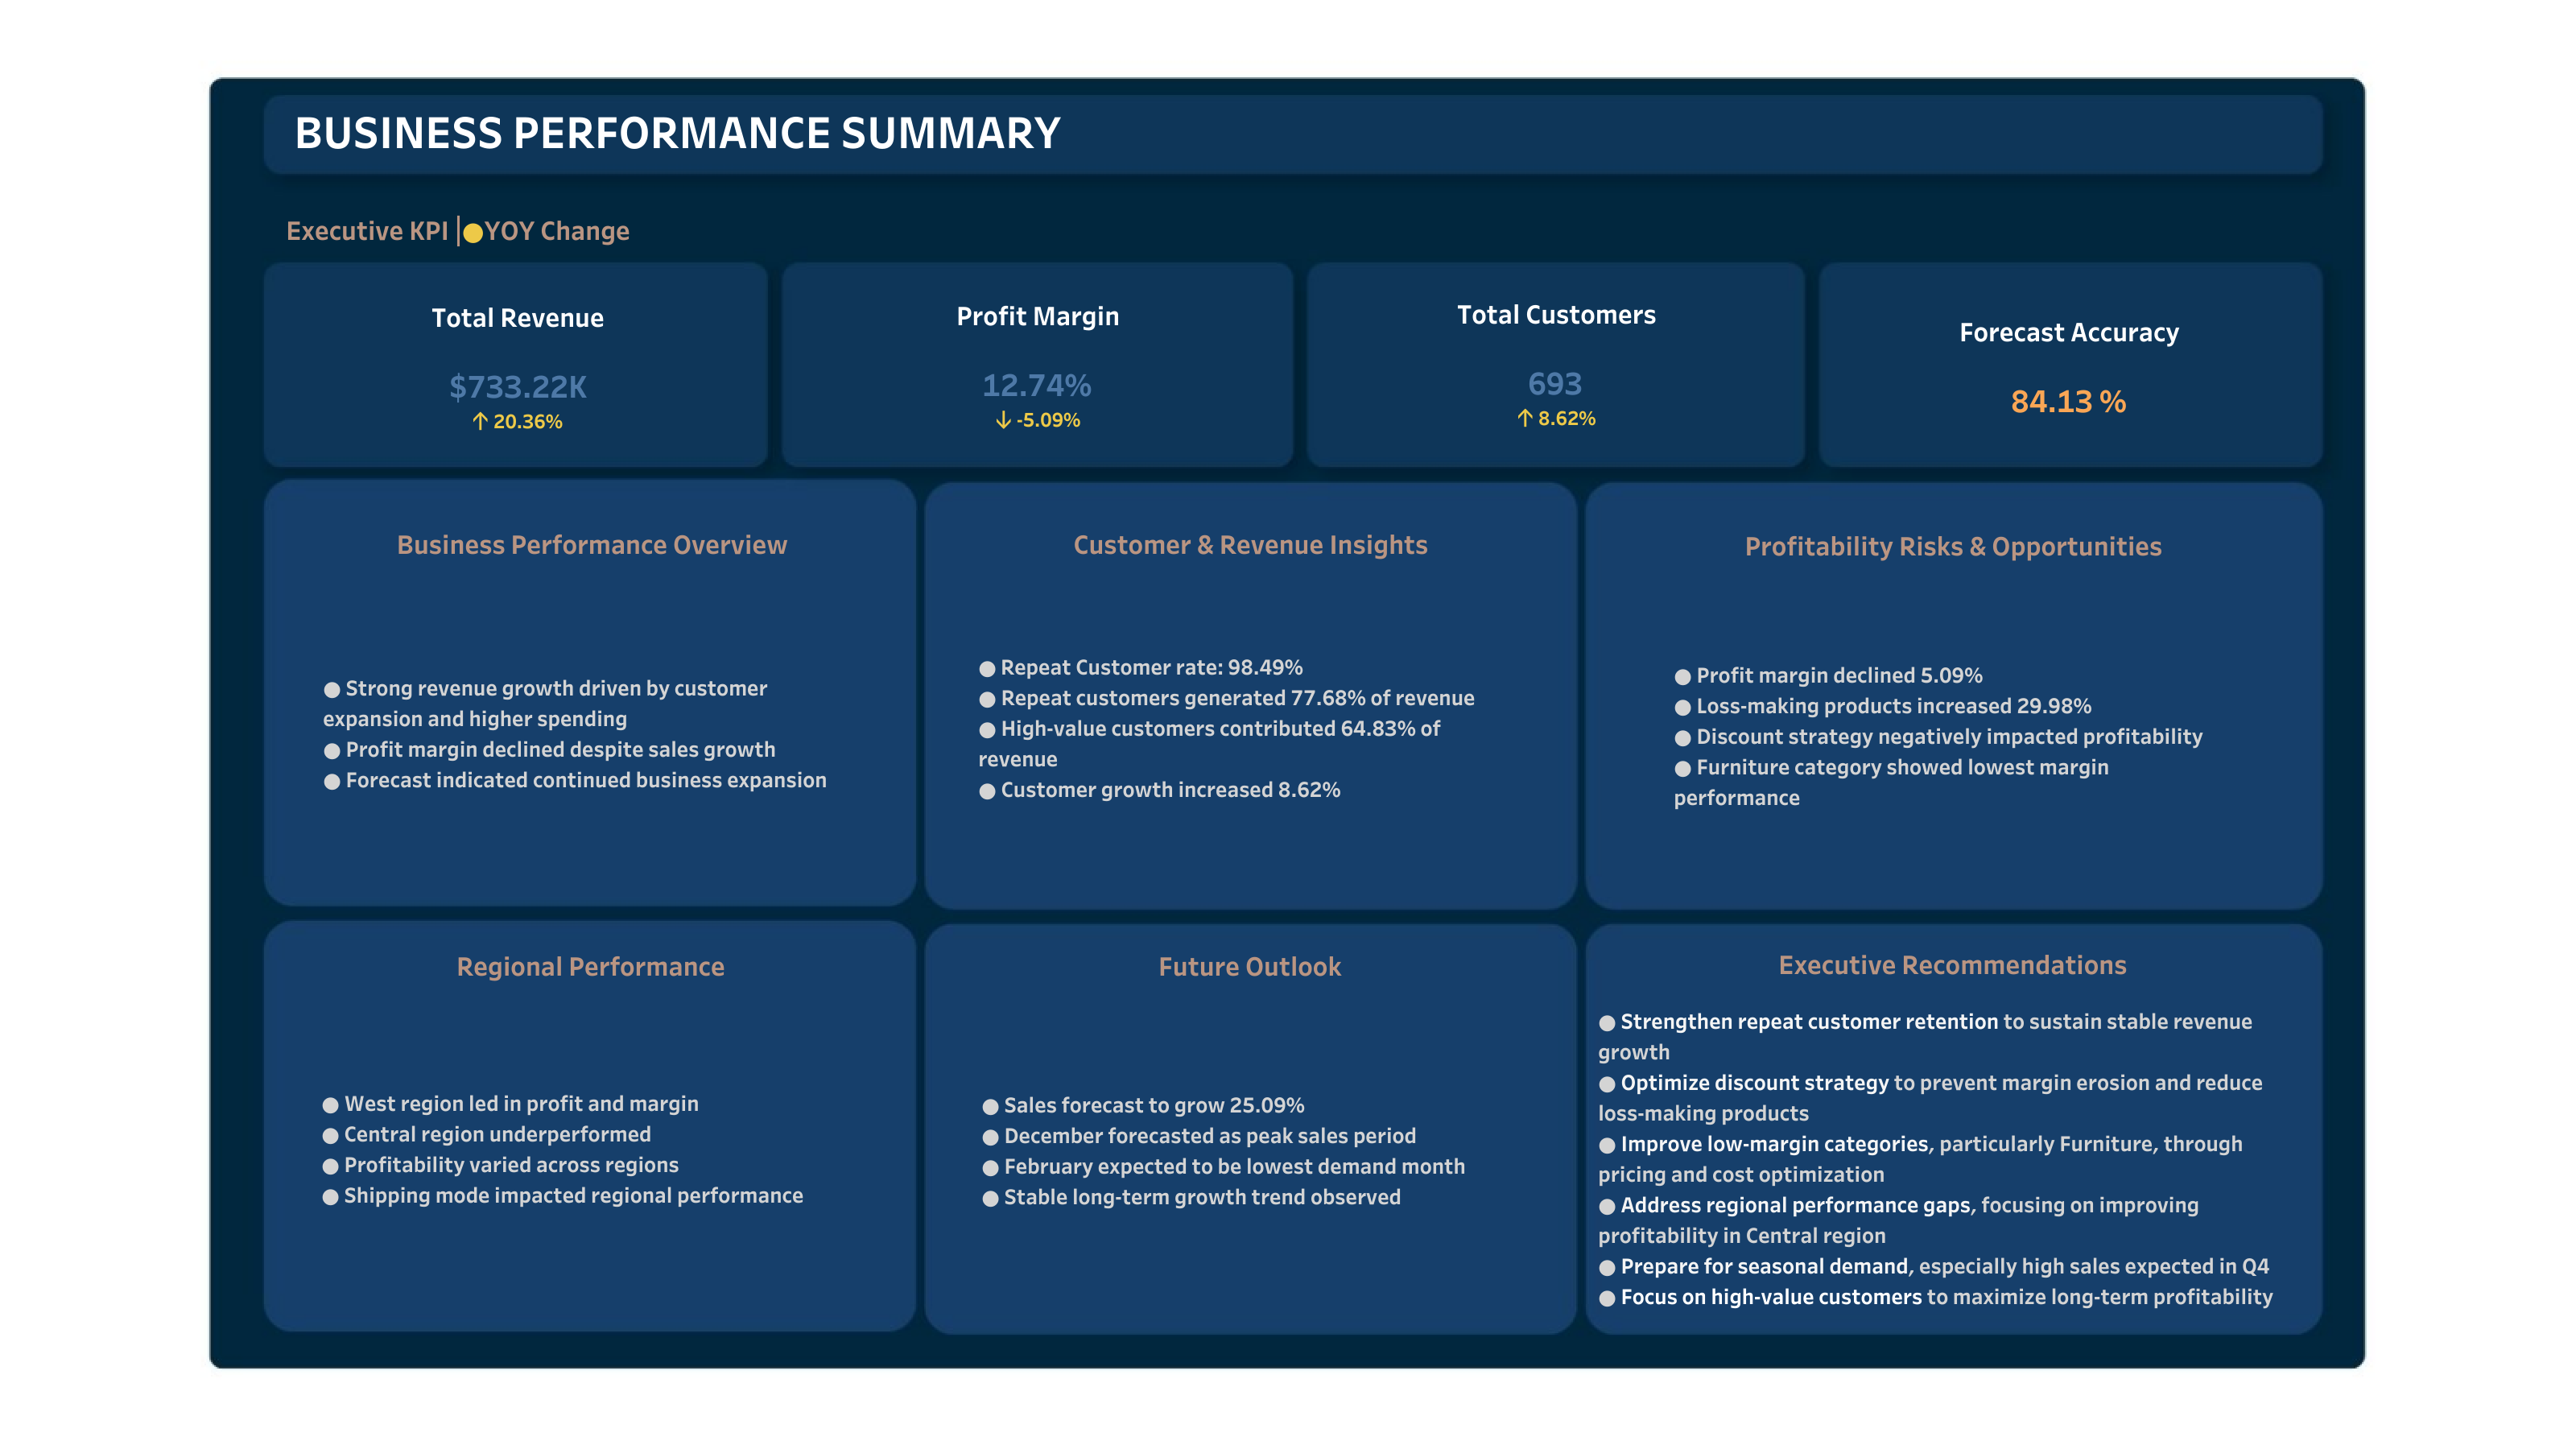

The dashboard page shown, as its layout file describes it:
{"tool":"tableau","page":{"name":"Summary","canvas":[1600,900],"ordinal":5},"visuals":[{"type":"image","param":"Image/White and Green Modern Clean Financial Performance Dashboard Whiteboard (1","box":[8,8,1584,884]},{"type":"text","box":[180,60,664,42]},{"type":"text","box":[175,127,360,30]},{"type":"worksheet","title":"Profit Margin KPI","mark":"Automatic","box":[487,165,316,123]},{"type":"worksheet","title":"Customer KPI","mark":"Automatic","box":[814,165,306,121]},{"type":"worksheet","title":"Sales KPI","mark":"Automatic","box":[169,166,306,123]},{"type":"worksheet","title":"Forecast Accuracy KPI","mark":"Automatic","box":[1129,167,313,122]},{"type":"text","box":[576,315,402,45]},{"type":"text","box":[167,316,402,43]},{"type":"text","box":[985,316,457,44]},{"type":"text","box":[601,364,352,175]},{"type":"text","box":[194,367,352,175]},{"type":"text","box":[1033,369,352,175]},{"type":"text","box":[168,580,398,38]},{"type":"text","box":[575,580,403,38]},{"type":"text","box":[987,580,452,36]},{"type":"text","box":[986,615,455,208]},{"type":"text","box":[193,625,352,175]},{"type":"text","box":[603,626,352,175]}]}

Visuals, with their boxes in screenshot pixels (x1, y1, x2, y2), scaled from the page's 1600x900 canvas onto the 2576x1449 screenshot:
image: (x1=13, y1=13, x2=2563, y2=1436)
text: (x1=290, y1=97, x2=1359, y2=164)
text: (x1=282, y1=204, x2=861, y2=253)
"Profit Margin KPI" worksheet: (x1=784, y1=266, x2=1293, y2=464)
"Customer KPI" worksheet: (x1=1311, y1=266, x2=1803, y2=460)
"Sales KPI" worksheet: (x1=272, y1=267, x2=765, y2=465)
"Forecast Accuracy KPI" worksheet: (x1=1818, y1=269, x2=2322, y2=465)
text: (x1=927, y1=507, x2=1575, y2=580)
text: (x1=269, y1=509, x2=916, y2=578)
text: (x1=1586, y1=509, x2=2322, y2=580)
text: (x1=968, y1=586, x2=1534, y2=868)
text: (x1=312, y1=591, x2=879, y2=873)
text: (x1=1663, y1=594, x2=2230, y2=876)
text: (x1=270, y1=934, x2=911, y2=995)
text: (x1=926, y1=934, x2=1575, y2=995)
text: (x1=1589, y1=934, x2=2317, y2=992)
text: (x1=1587, y1=990, x2=2320, y2=1325)
text: (x1=311, y1=1006, x2=877, y2=1288)
text: (x1=971, y1=1008, x2=1538, y2=1290)
